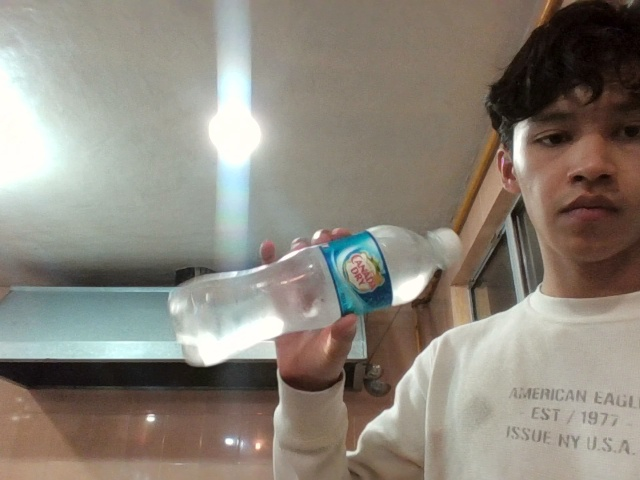botella: (138, 204, 526, 371)
